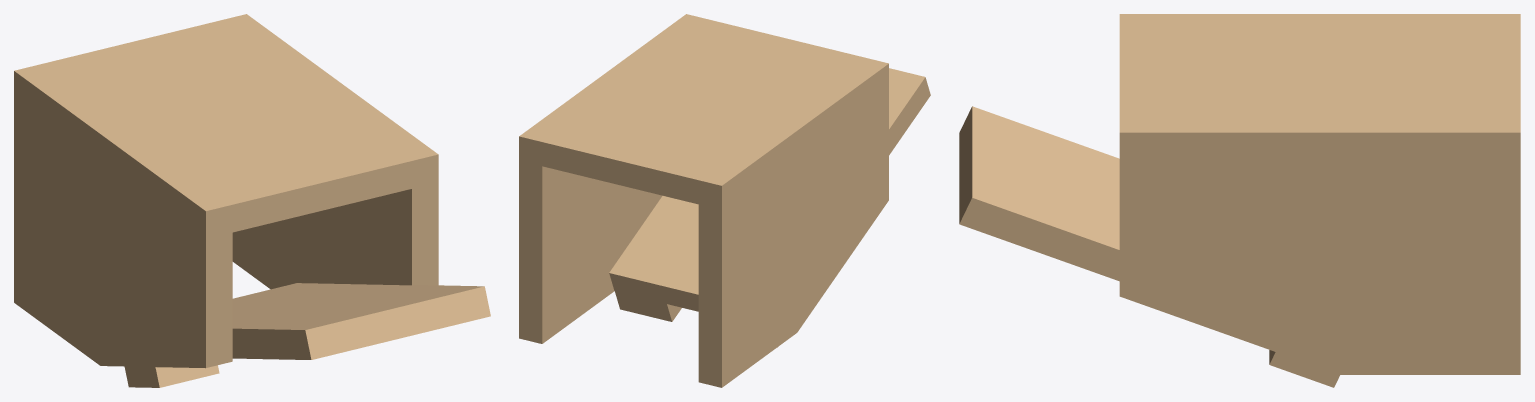
File: tinker.obj
The picture shows the model from 3 angles, left to right: view 1: azimuth 30°, elevation 25°; view 2: azimuth 150°, elevation 25°; view 3: azimuth 270°, elevation 25°; orthographic projection. The views are drawn at different scales.
Parts seen in each view (by area): view 1: obj_0; view 2: obj_0; view 3: obj_0.
Boxes of the visible parts, x1,y1,x2,y2 form: obj_0: [14, 14, 490, 387]; obj_0: [519, 14, 930, 387]; obj_0: [959, 14, 1520, 387].
Size of the model in its own units: 105 by 111 by 210.
